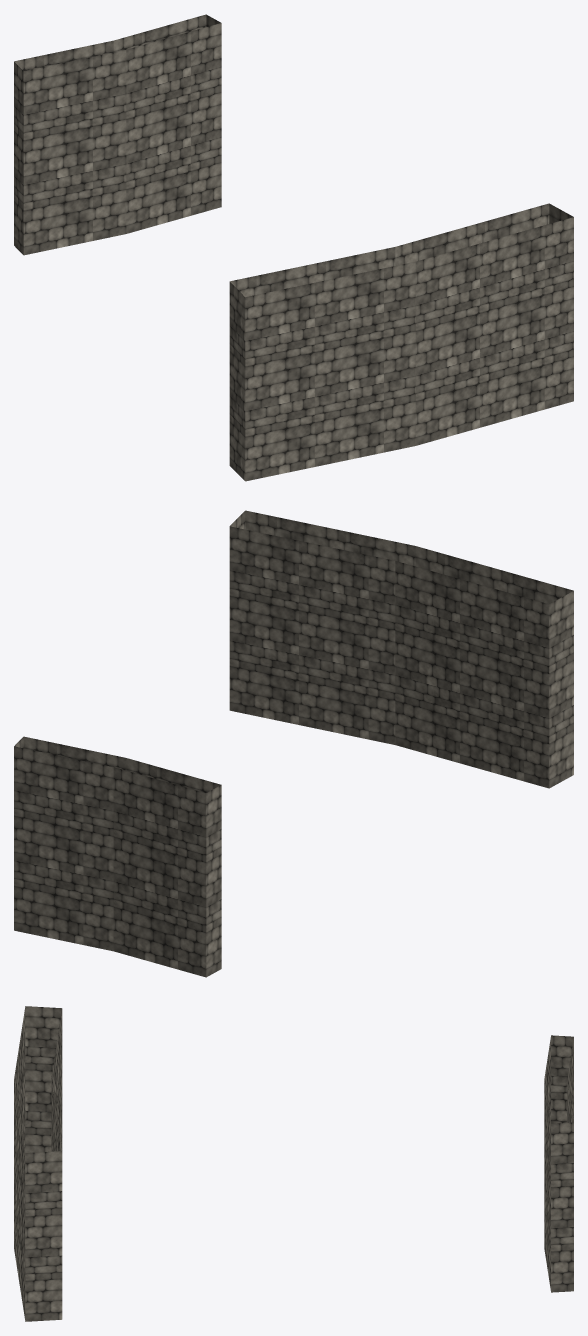
Rendered from Arena_Foundation_1_LOD1.gltf.
The picture shows the model from 3 angles, top to bottom: view 1: azimuth 30°, elevation 25°; view 2: azimuth 150°, elevation 25°; view 3: azimuth 270°, elevation 25°; orthographic projection. The views are drawn at different scales.
Parts seen in each view (by area): view 1: Arena_Foundation_1_LOD1; view 2: Arena_Foundation_1_LOD1; view 3: Arena_Foundation_1_LOD1.
Part boxes in pixels (x1,y1,x2,y2): Arena_Foundation_1_LOD1: [14, 14, 573, 481]; Arena_Foundation_1_LOD1: [14, 510, 573, 977]; Arena_Foundation_1_LOD1: [14, 1006, 573, 1321].
Size of the model in its own units: 9.8 by 5.25 by 15.79.
1 material, 1 textured.
